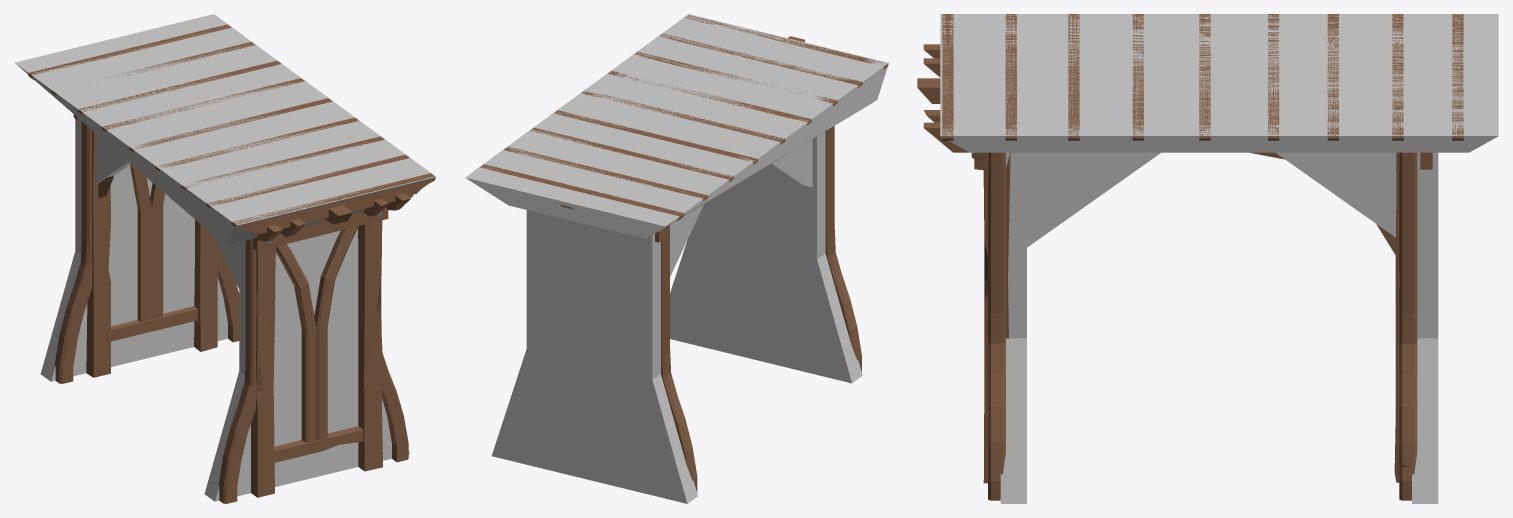
The model's file is SM_Prop_Trellis_Swing_01.fbx.
3 views of the same model, side by side, from view 1: azimuth 30°, elevation 25°; view 2: azimuth 150°, elevation 25°; view 3: azimuth 270°, elevation 25° (orthographic). The views are drawn at different scales.
Visible parts, largest first — view 1: SM_Prop_Trellis_Swing_01_ConvexHulls, SM_Prop_Trellis_Swing_01; view 2: SM_Prop_Trellis_Swing_01_ConvexHulls, SM_Prop_Trellis_Swing_01; view 3: SM_Prop_Trellis_Swing_01_ConvexHulls, SM_Prop_Trellis_Swing_01.
Part boxes in pixels (bbox=[...]): SM_Prop_Trellis_Swing_01_ConvexHulls: bbox=[15, 14, 435, 501]; SM_Prop_Trellis_Swing_01: bbox=[28, 24, 435, 503]; SM_Prop_Trellis_Swing_01_ConvexHulls: bbox=[465, 14, 888, 503]; SM_Prop_Trellis_Swing_01: bbox=[479, 15, 888, 492]; SM_Prop_Trellis_Swing_01_ConvexHulls: bbox=[940, 14, 1498, 503]; SM_Prop_Trellis_Swing_01: bbox=[917, 14, 1463, 500].
Size of the model in its own units: 199 by 399 by 280.
2 materials, 1 textured.
